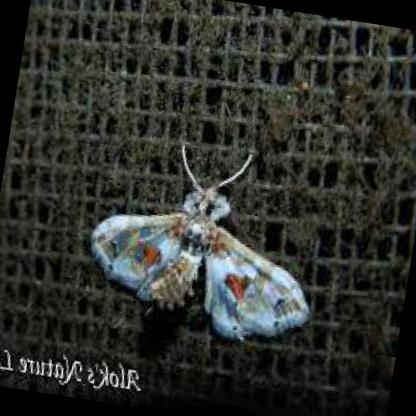leucinodes: (91, 187, 307, 345)
